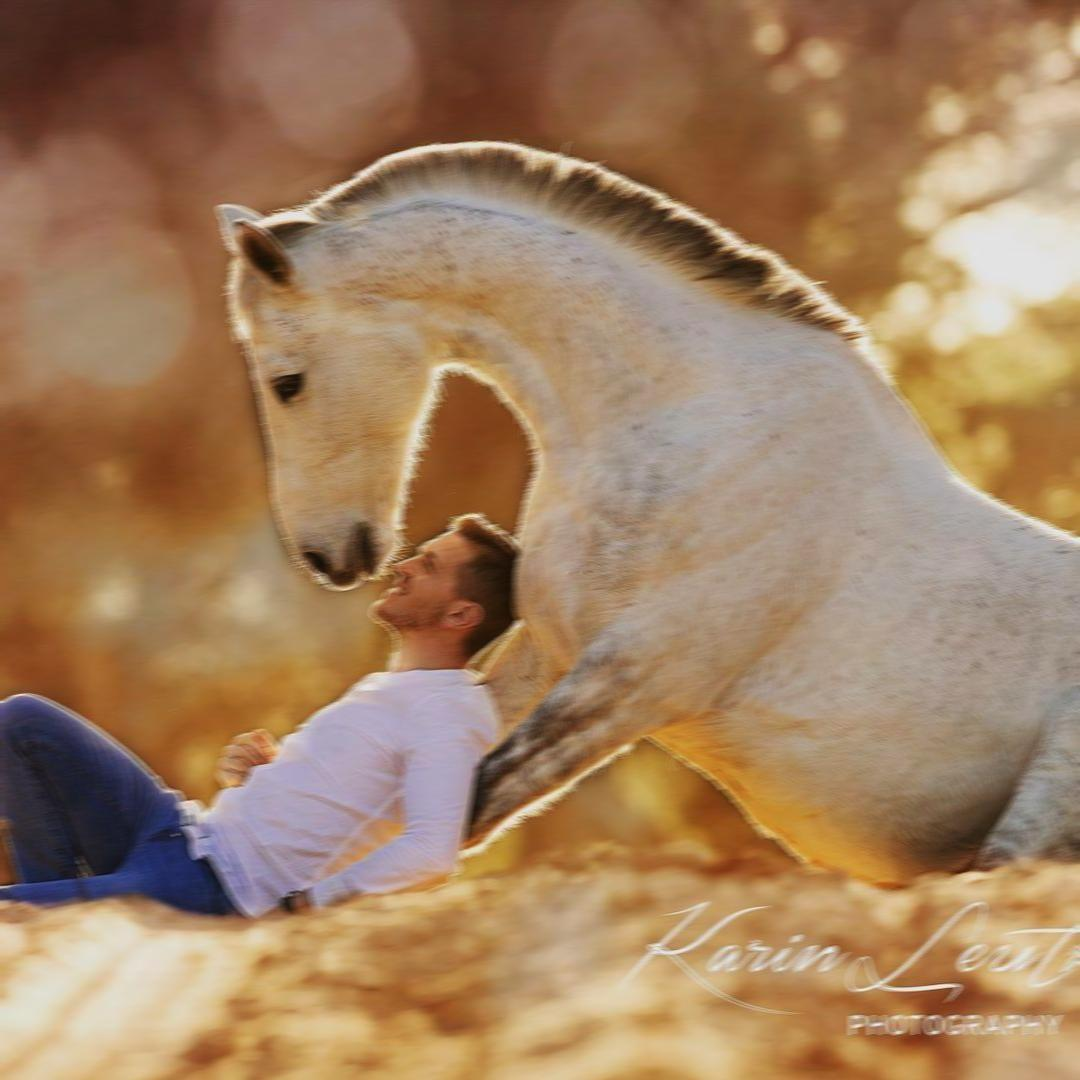horse: (215, 136, 1080, 889)
